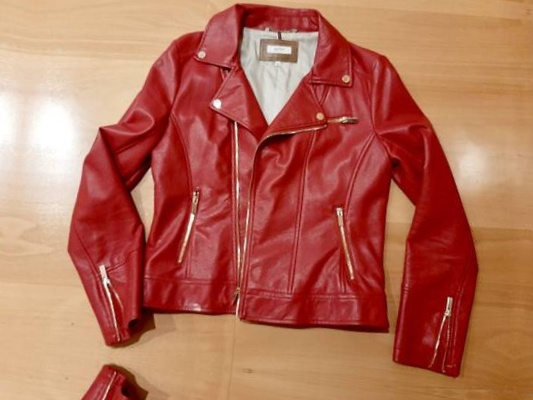Blazer: (21, 0, 515, 389), (0, 354, 475, 400), (0, 0, 17, 334)
